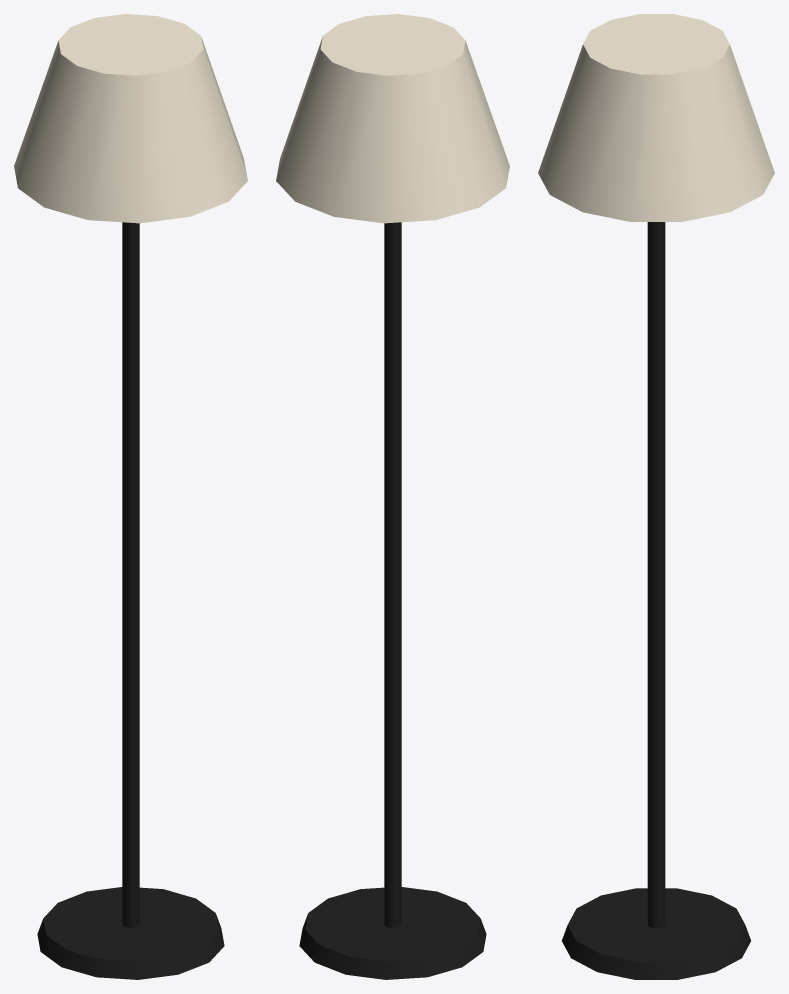
File: table-lamp.obj
3 renders of one model, left to right at view 1: azimuth 30°, elevation 25°; view 2: azimuth 150°, elevation 25°; view 3: azimuth 270°, elevation 25°, orthographic.
Visible parts, largest first — view 1: table-lamp_2, table-lamp_0, table-lamp_1; view 2: table-lamp_2, table-lamp_0, table-lamp_1; view 3: table-lamp_2, table-lamp_1, table-lamp_0.
Part boxes in pixels (x1,y1,x2,y2): table-lamp_2: (14, 14, 247, 223); table-lamp_0: (37, 887, 224, 979); table-lamp_1: (122, 222, 139, 927); table-lamp_2: (276, 14, 509, 223); table-lamp_0: (299, 887, 486, 979); table-lamp_1: (384, 222, 401, 927); table-lamp_2: (538, 14, 774, 221); table-lamp_1: (647, 222, 665, 928); table-lamp_0: (562, 888, 750, 979).
Size of the model in its own units: 0.39 by 1.67 by 0.4.
